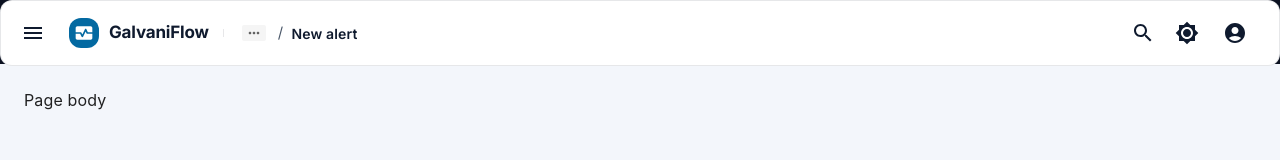
Scenario: AppLayout header breadcrumbs › shows only the current page on a phone until the trail is expanded
Expected: the text "New alert" is shown, [291,22,358,44]
Expected: the link "Alerts" is not shown
Click the button named "Show path" at (254, 33), box [242,25,266,41]
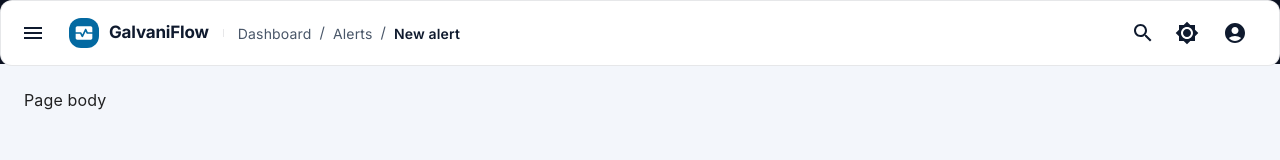
Expected: the link "Alerts" is shown, [333,22,372,44]
